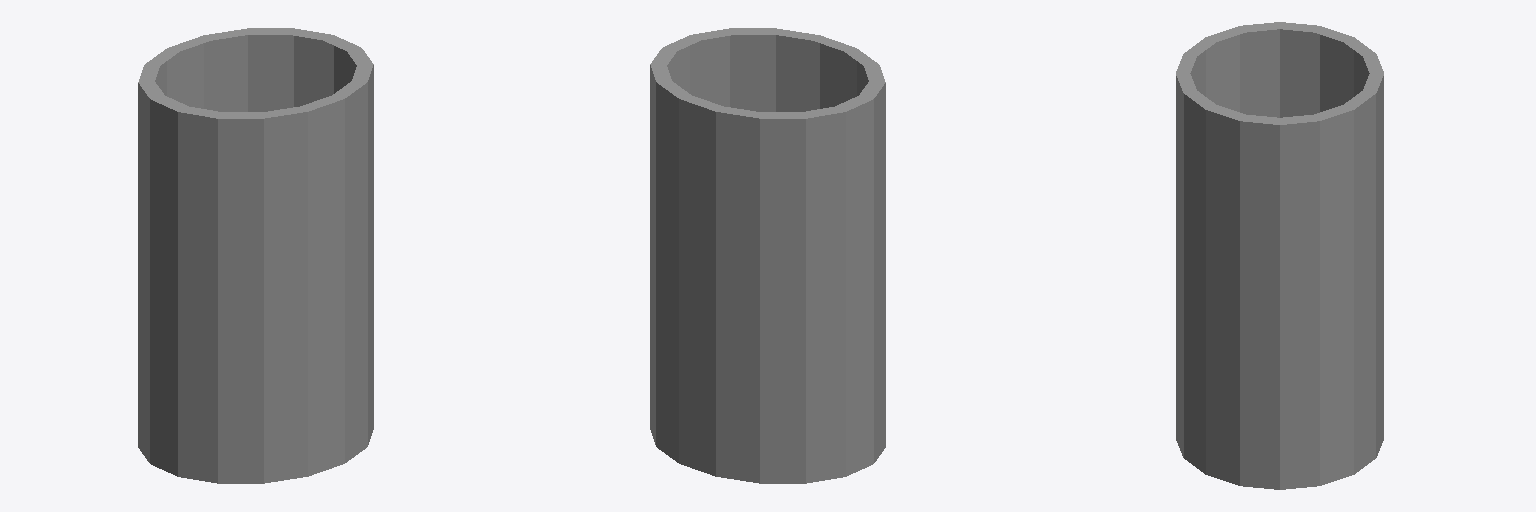
The model's file is barrel.obj.
3 renders of one model, left to right at view 1: azimuth 30°, elevation 25°; view 2: azimuth 150°, elevation 25°; view 3: azimuth 270°, elevation 25°, orthographic.
Visible parts, largest first — view 1: Cylinder_Cylinder; view 2: Cylinder_Cylinder; view 3: Cylinder_Cylinder.
Boxes of the visible parts, x1,y1,x2,y2 form: Cylinder_Cylinder: [138, 28, 373, 483]; Cylinder_Cylinder: [650, 28, 885, 483]; Cylinder_Cylinder: [1176, 22, 1383, 489].
Size of the model in its own units: 9.37 by 15.44 by 8.01.